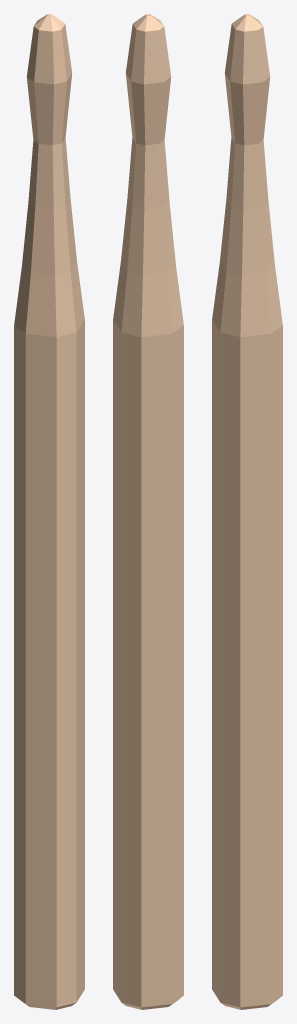
File: drumstick.fbx
3 renders of one model, left to right at view 1: azimuth 30°, elevation 25°; view 2: azimuth 150°, elevation 25°; view 3: azimuth 330°, elevation 25°, orthographic.
Parts seen in each view (by area): view 1: Cube; view 2: Cube; view 3: Cube.
Part boxes in pixels (box(x1,y1,x2,y2)): Cube: box(14, 14, 84, 1009); Cube: box(113, 14, 183, 1009); Cube: box(212, 14, 282, 1009).
Bounding box in the file's own units: 200 × 3172 × 200.
